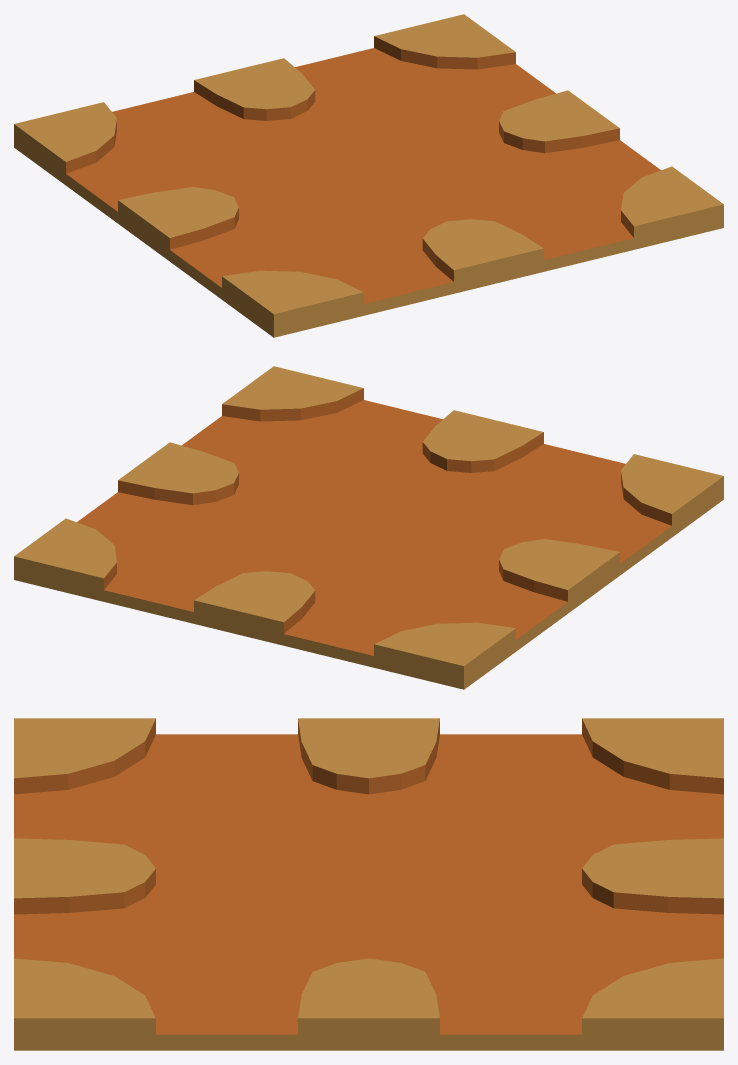
The model's file is Tile_Dirt_Road_Cross.fbx.
3 views of the same model, one above another, from view 1: azimuth 30°, elevation 25°; view 2: azimuth 150°, elevation 25°; view 3: azimuth 270°, elevation 25° (orthographic). The views are drawn at different scales.
Parts seen in each view (by area): view 1: Tile_Dirt_Road_Cross; view 2: Tile_Dirt_Road_Cross; view 3: Tile_Dirt_Road_Cross.
Boxes of the visible parts, x1=… form: Tile_Dirt_Road_Cross: x1=14, y1=14, x2=723, y2=337; Tile_Dirt_Road_Cross: x1=14, y1=366, x2=723, y2=689; Tile_Dirt_Road_Cross: x1=14, y1=718, x2=723, y2=1050.
Size of the model in its own units: 100 by 5 by 100.
